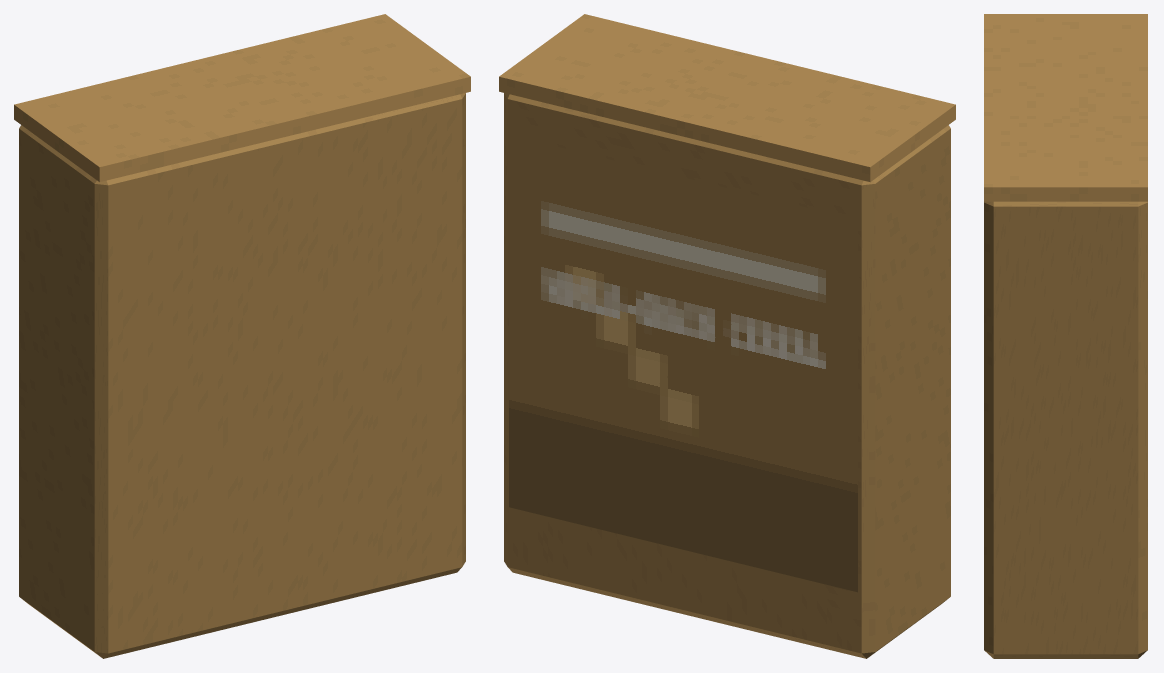
Rendered from cereal2.glb.
3 renders of one model, left to right at view 1: azimuth 30°, elevation 25°; view 2: azimuth 150°, elevation 25°; view 3: azimuth 270°, elevation 25°, orthographic. The views are drawn at different scales.
Parts seen in each view (by area): view 1: block_printed carton, block_sealed cereal box flaps; view 2: block_product illustration and wordmark, block_printed carton, block_sealed cereal box flaps; view 3: block_printed carton, block_sealed cereal box flaps.
Boxes of the visible parts, x1=… form: block_printed carton: x1=19, y1=93, x2=465, y2=658; block_sealed cereal box flaps: x1=14, y1=14, x2=470, y2=182; block_product illustration and wordmark: x1=509, y1=135, x2=857, y2=592; block_printed carton: x1=504, y1=93, x2=950, y2=658; block_sealed cereal box flaps: x1=499, y1=14, x2=955, y2=182; block_printed carton: x1=984, y1=201, x2=1147, y2=658; block_sealed cereal box flaps: x1=984, y1=14, x2=1147, y2=201.
Bounding box in the file's own units: 0.0693 × 0.0887 × 0.028.
Materials: 1 (1 with a texture image).
